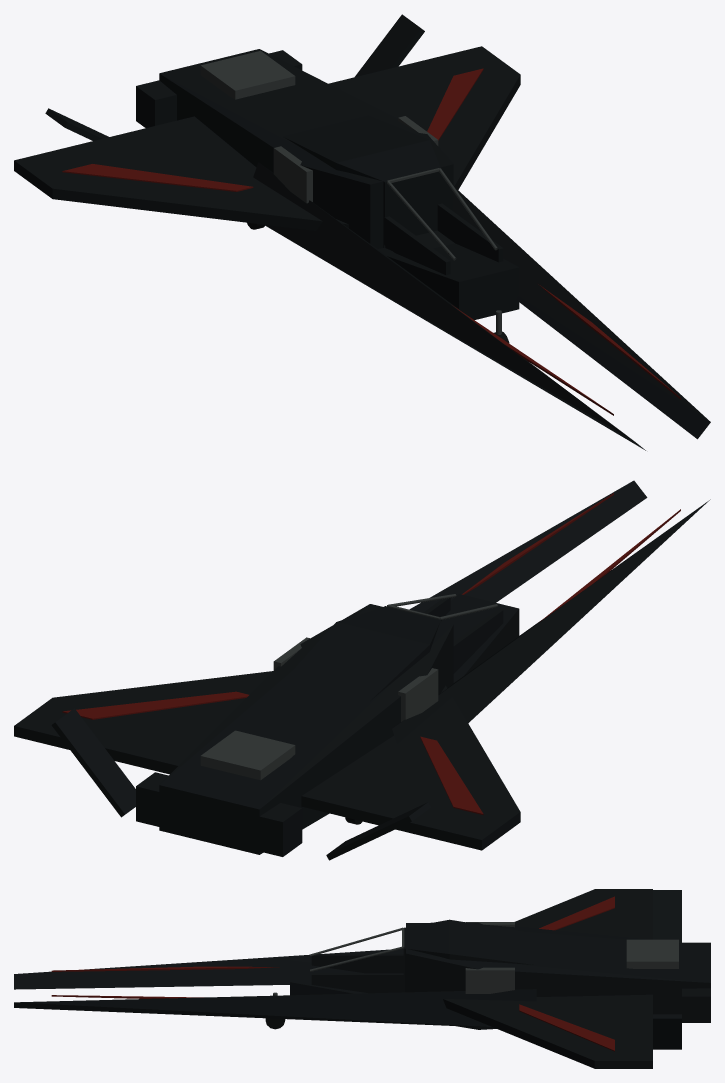
The picture shows the model from 3 angles, top to bottom: view 1: azimuth 30°, elevation 25°; view 2: azimuth 150°, elevation 25°; view 3: azimuth 270°, elevation 25°; orthographic projection. The views are drawn at different scales.
Parts seen in each view (by area): view 1: mothership-fighter-painted, flap-right-painted, mothership-canopy-painted; view 2: mothership-fighter-painted, flap-right-painted, flap-left-painted, mothership-canopy-painted; view 3: mothership-fighter-painted, flap-left-painted, flap-right-painted, mothership-canopy-painted.
Boxes of the visible parts, x1,y1,x2,y2 form: mothership-fighter-painted: (14, 46, 710, 450); flap-right-painted: (355, 14, 424, 76); mothership-canopy-painted: (387, 168, 497, 260); mothership-fighter-painted: (14, 480, 710, 856); flap-right-painted: (51, 708, 135, 817); flap-left-painted: (326, 802, 430, 860); mothership-canopy-painted: (387, 594, 497, 619); mothership-fighter-painted: (14, 889, 710, 1068); flap-left-painted: (653, 890, 681, 942); flap-right-painted: (653, 1014, 681, 1049); mothership-canopy-painted: (310, 927, 404, 971).
Bounding box in the file's own units: 73.68 × 18.16 × 126.
